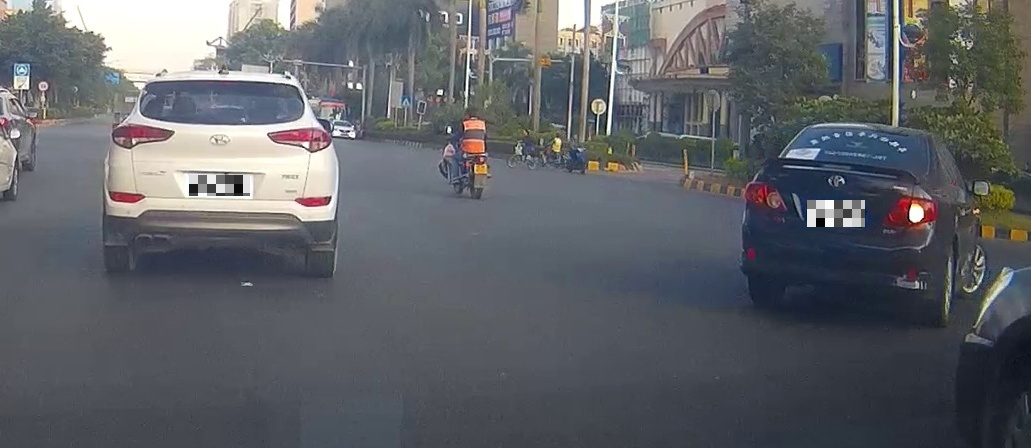L_light: (111, 123, 175, 149), (743, 180, 787, 212)
R_light: (266, 126, 333, 152), (882, 196, 938, 226)
T_light: (203, 80, 238, 85), (850, 128, 872, 133)
day-no: (102, 69, 337, 277)
day-right: (739, 120, 944, 325)
plate_1: (189, 175, 250, 196)
plate_2: (807, 200, 865, 227)
